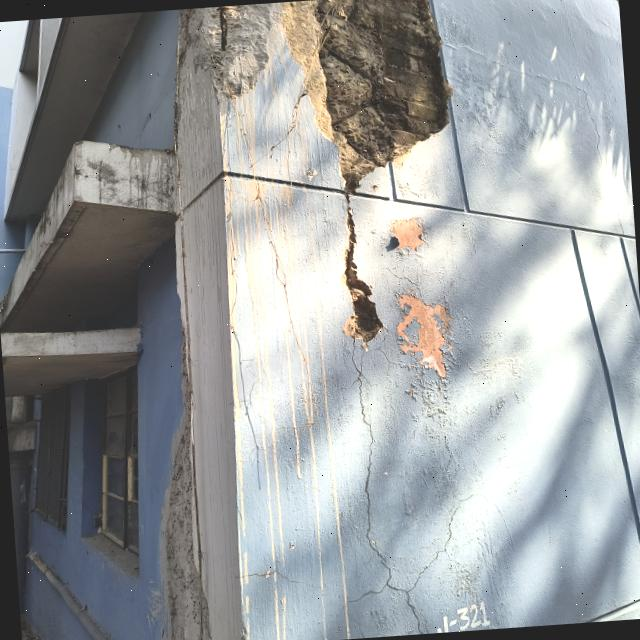crack: (341, 341, 475, 633), (234, 567, 326, 589)
peeling: (160, 342, 211, 640), (396, 294, 450, 377), (391, 217, 424, 250)
spalling: (281, 0, 451, 191), (197, 3, 280, 99), (343, 204, 382, 351)
